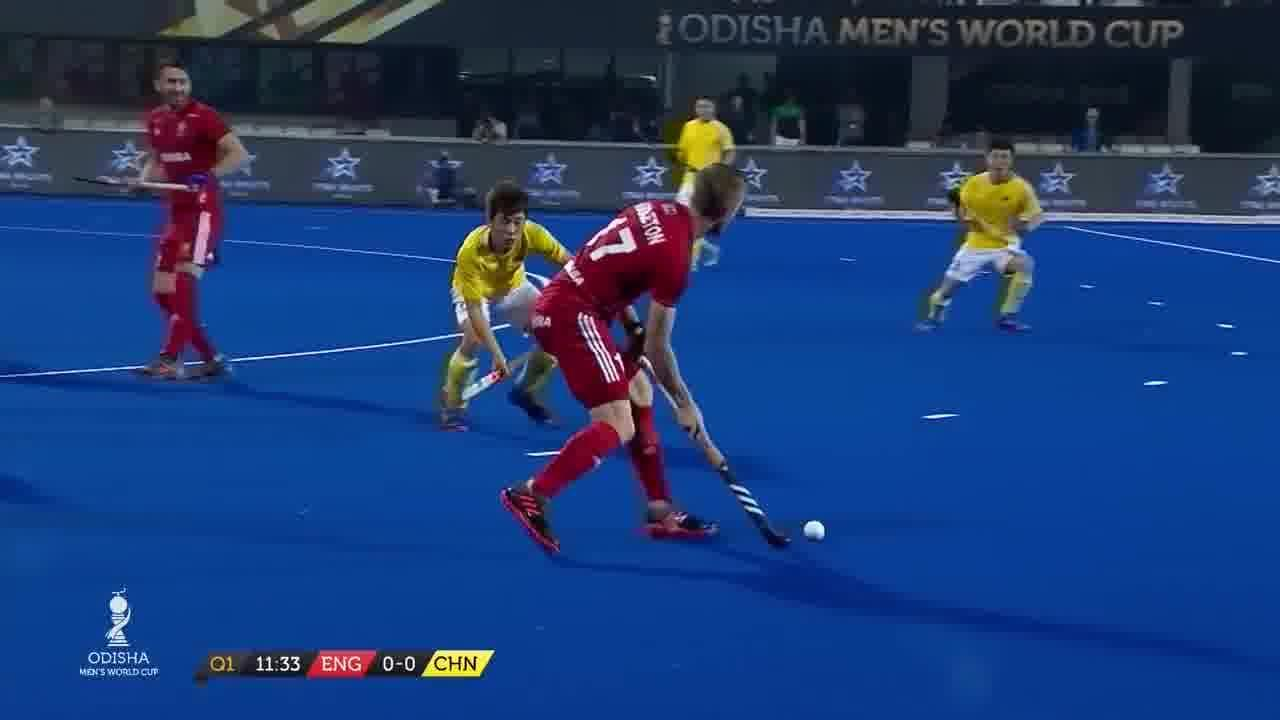ball: (784, 490, 838, 560)
